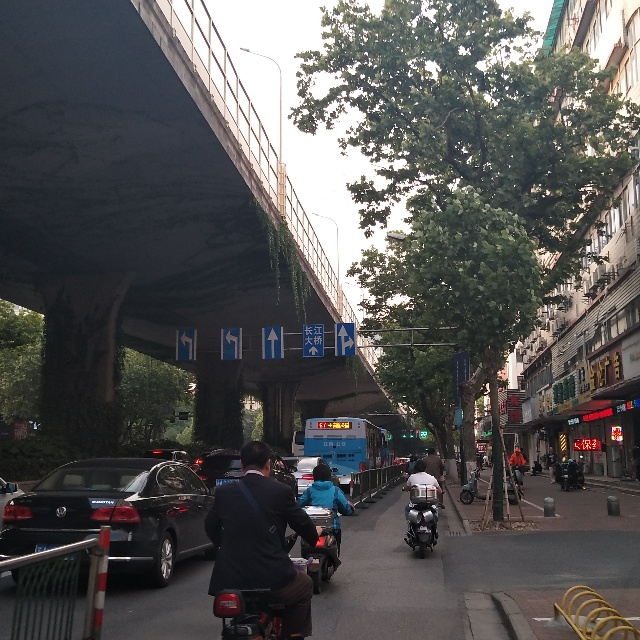left: (220, 327, 243, 363), (174, 328, 198, 359)
straight: (263, 325, 284, 359)
